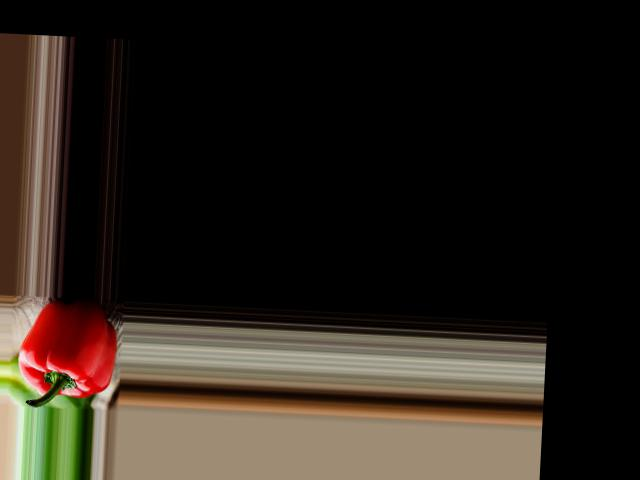bell_pepper: (13, 294, 117, 408)
